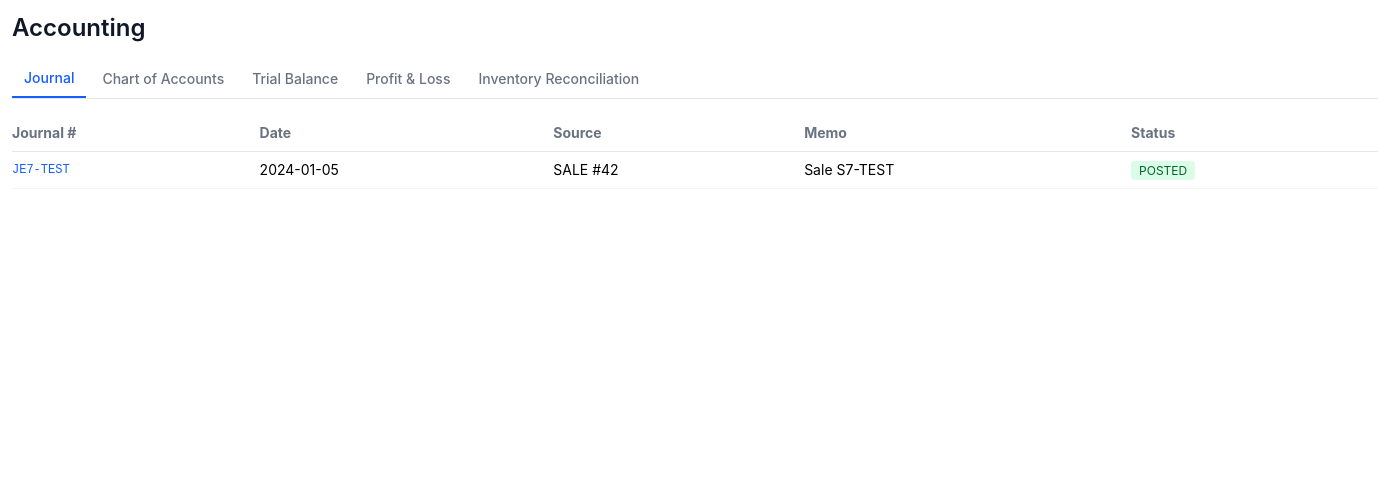
Scenario: AccountingPage › does not offer reversal for an automatically-posted SALE entry
The image size is (1378, 496).
Expected: the heading "Accounting" is shown, [12,13,146,42]
Click the text "JE7-TEST": (41, 170) [12,152,260,188]
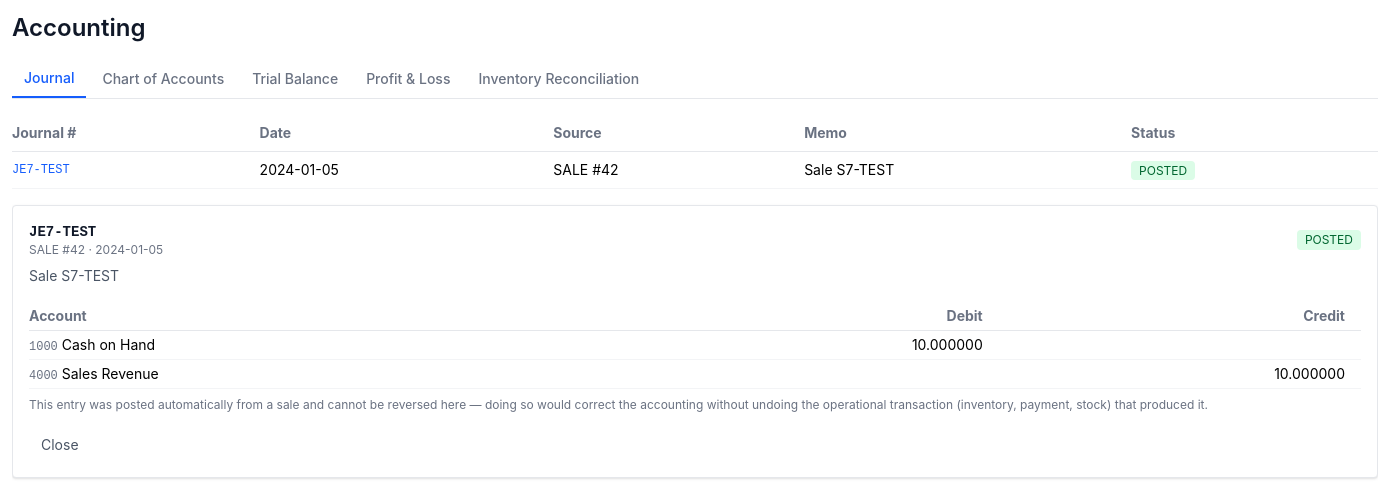
Now the text "posted automatically" is shown, box [29,397,276,412]
